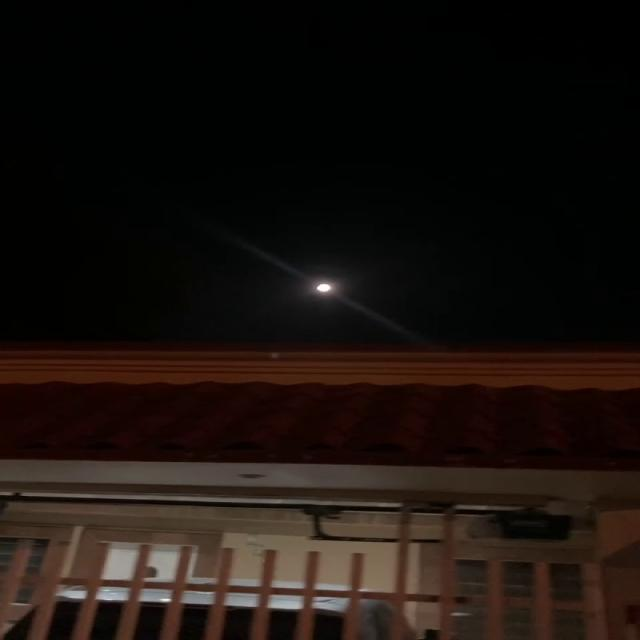moon: (305, 273, 338, 298)
